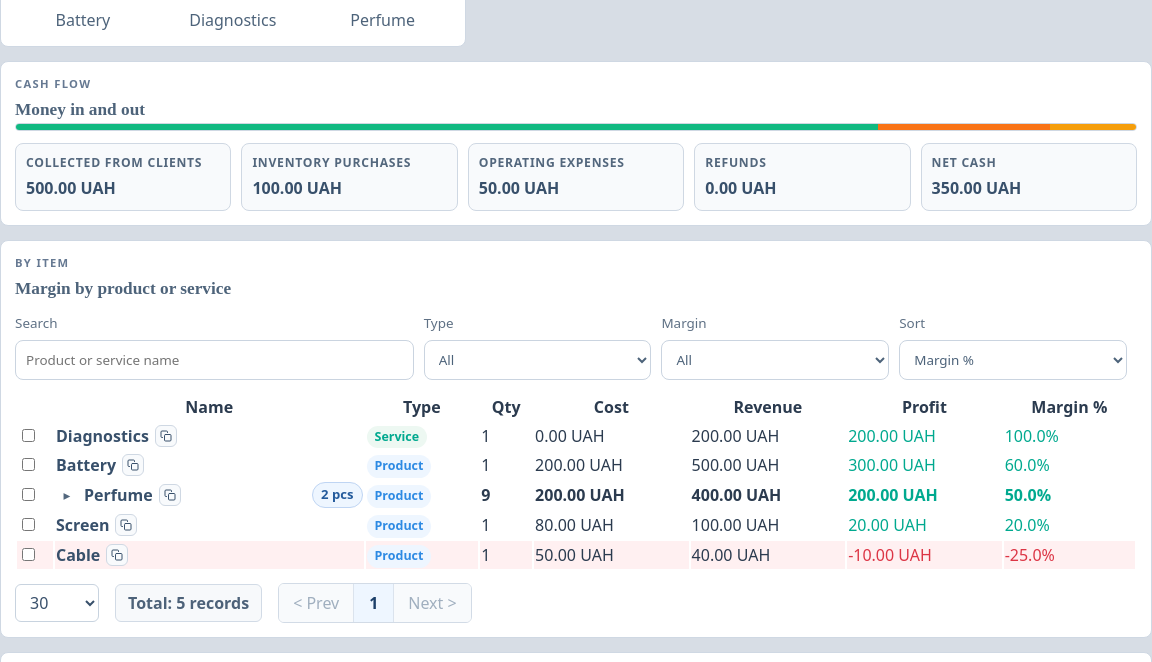
Test: AccountingProfitReportsView › filters the margin table by name search and analyzes a selected group
Type "Batt" into the field with placeholder "Product or service name" at (214, 360), box [15,340,414,380]
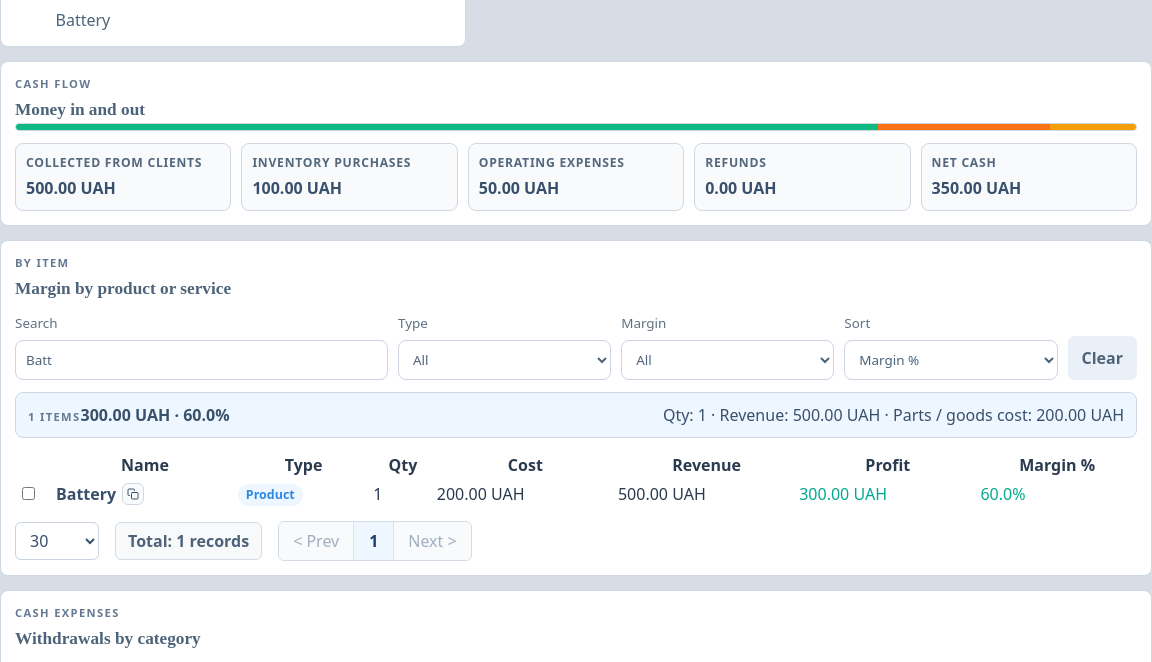
Check: the button "Battery" is shown, box [56,482,116,506]
Clear the field with placeholder "Product or service name" at (202, 360), box [15,340,388,380]
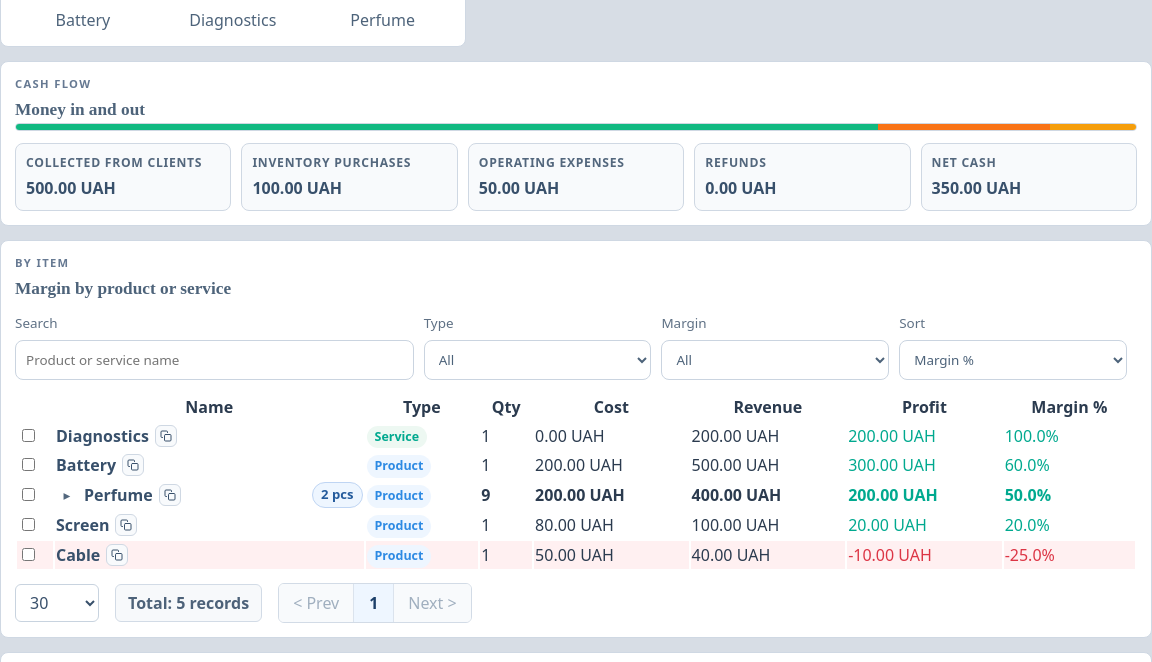
Click the checkbox named "Select Battery" at (28, 465), box [22,458,35,471]
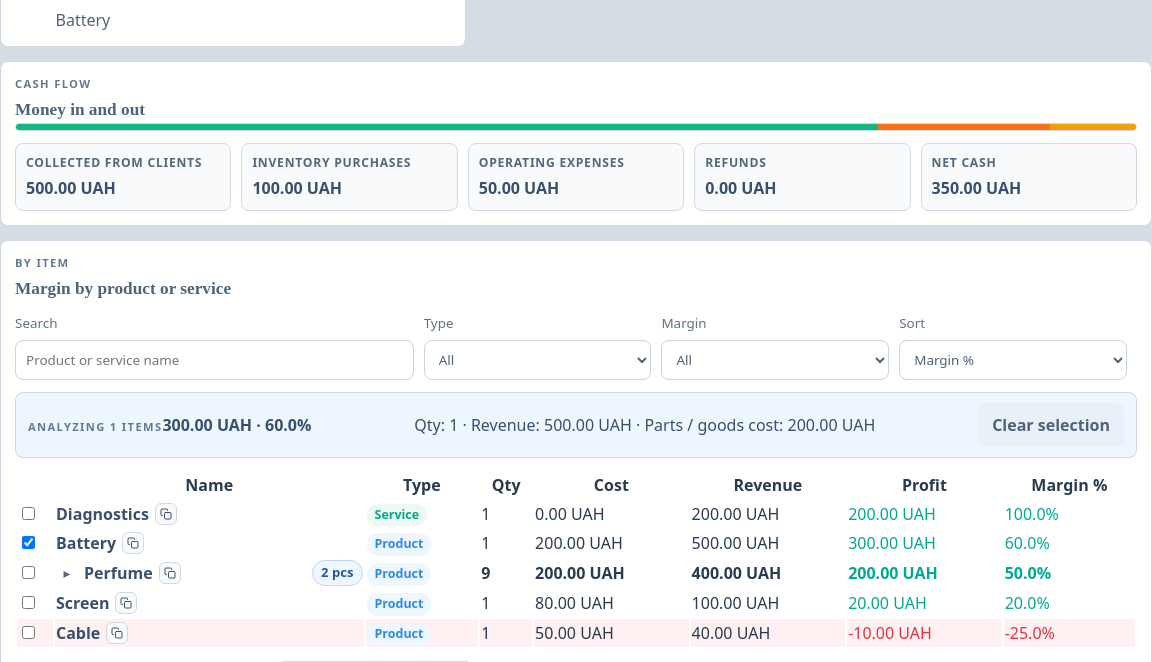
Check: the text "Analyzing 1 items" is shown, box [28,419,162,434]
